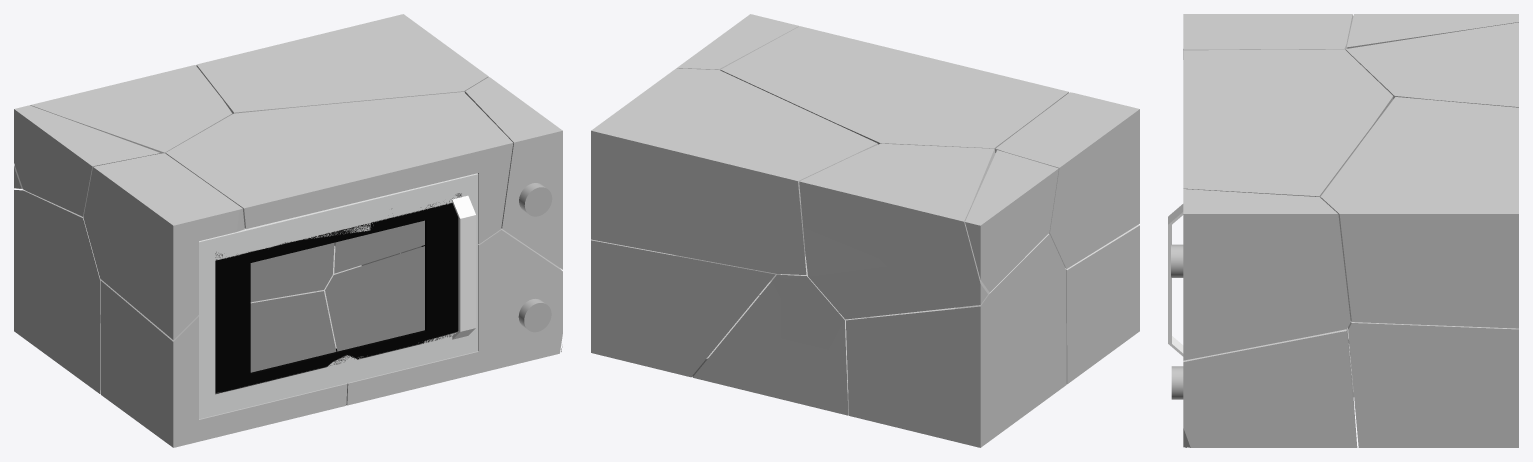
File: Microwave_Destructed_FBX.fbx
3 views of the same model, side by side, from view 1: azimuth 30°, elevation 25°; view 2: azimuth 150°, elevation 25°; view 3: azimuth 270°, elevation 25° (orthographic). The views are drawn at different scales.
Visible parts, largest first — view 1: Cube_cell.011, Microwave_Door, Cube_cell.013, Cube_cell.010, Cube_cell.012, Cube_cell.002, Cube_cell.014, Cube_cell.004, Cube_cell.006, Cube_cell.003, Microwave_Door_window_cell.001, Microwave_Door_window_cell (+11 smaller); view 2: Cube_cell.010, Cube_cell.002, Cube_cell.004, Cube_cell.011, Cube_cell.008, Cube_cell.013, Cube_cell.007, Cube_cell.012, Cube_cell.003, Cube_cell.006; view 3: Cube_cell.010, Cube_cell.011, Cube_cell.006, Cube_cell.008, Cube_cell.014, Cube_cell.004, Cube_cell.013, Cube_cell.003, Microwave_Handler, Shower_Button__2_, Shower_Button__1_.
Boxes of the visible parts, x1,y1,x2,y2 form: Cube_cell.011: (165,92,513,243); Microwave_Door: (198,174,478,418); Cube_cell.013: (83,153,244,339); Cube_cell.010: (196,14,488,113); Cube_cell.012: (100,279,347,447); Cube_cell.002: (14,190,100,394); Cube_cell.014: (328,228,562,405); Cube_cell.004: (14,65,232,189); Cube_cell.006: (465,77,562,269); Cube_cell.003: (14,105,160,216); Microwave_Door_window_cell.001: (325,246,424,351); Microwave_Door_window_cell: (250,291,336,372); Cube_cell.010: (591,68,877,274); Cube_cell.002: (846,233,1066,447); Cube_cell.004: (799,143,995,319); Cube_cell.011: (720,26,1068,150); Cube_cell.008: (591,239,775,377); Cube_cell.013: (995,92,1139,268); Cube_cell.007: (692,274,867,415); Cube_cell.012: (900,224,1139,384); Cube_cell.003: (965,150,1058,292); Cube_cell.006: (677,14,799,70); Cube_cell.010: (1320,97,1518,328); Cube_cell.011: (1183,49,1393,197); Cube_cell.006: (1183,189,1350,360); Cube_cell.008: (1348,321,1518,447); Cube_cell.014: (1183,329,1357,447); Cube_cell.004: (1345,22,1518,107); Cube_cell.013: (1183,14,1353,59); Cube_cell.003: (1346,14,1518,48); Microwave_Handler: (1168,204,1183,356); Shower_Button__2_: (1171,366,1183,399); Shower_Button__1_: (1171,244,1183,277).
Bounding box in the file's own units: 73.62 × 40.14 × 54.56.
